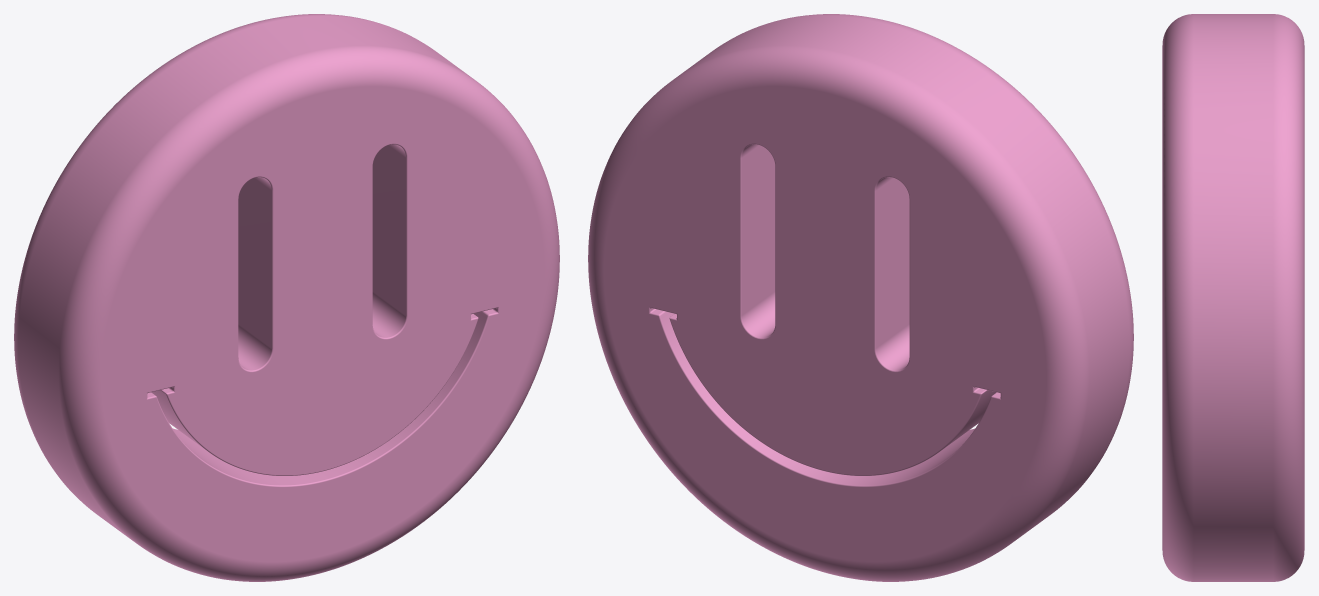
The model's file is smiley.glb.
3 renders of one model, left to right at view 1: azimuth 30°, elevation 25°; view 2: azimuth 150°, elevation 25°; view 3: azimuth 270°, elevation 25°, orthographic.
Visible parts, largest first — view 1: Smiley; view 2: Smiley; view 3: Smiley.
Boxes of the visible parts, box(x1,y1,x2,y2) form: Smiley: box(14, 14, 559, 581); Smiley: box(588, 14, 1133, 581); Smiley: box(1162, 14, 1304, 581).
Size of the model in its own units: 2 by 2 by 0.5.
